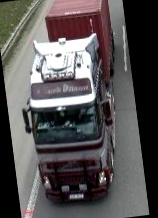truck: (7, 0, 133, 209)
